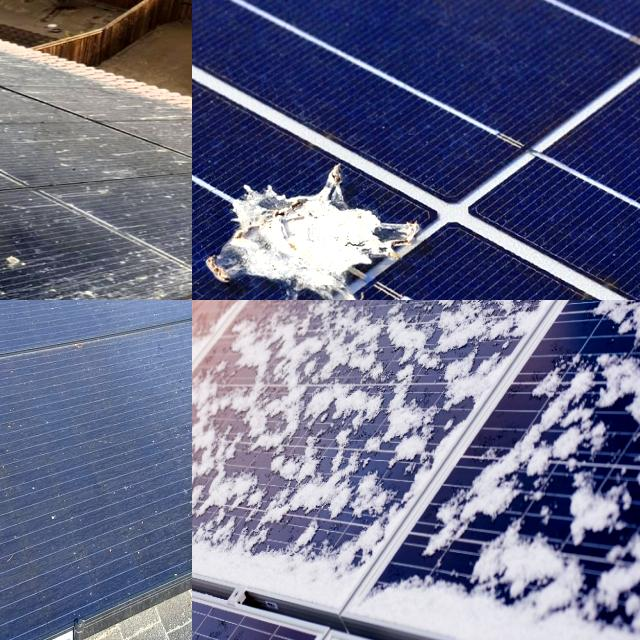bird: (206, 154, 433, 300), (0, 120, 53, 209), (0, 241, 30, 279), (0, 154, 15, 204)
dust: (0, 358, 95, 582), (0, 104, 162, 209), (128, 336, 191, 558), (0, 37, 109, 99), (31, 300, 141, 360), (11, 300, 91, 334), (0, 300, 41, 365), (0, 300, 43, 331)
panel: (228, 506, 354, 605), (566, 468, 640, 636), (486, 440, 564, 594), (328, 302, 434, 414), (534, 356, 640, 462), (435, 300, 533, 405), (326, 429, 432, 522), (368, 572, 504, 640), (234, 308, 336, 384), (213, 381, 308, 459), (417, 484, 485, 590), (192, 470, 246, 576), (493, 300, 640, 335), (252, 472, 342, 527), (192, 397, 247, 483), (519, 603, 640, 640), (192, 300, 277, 349), (589, 300, 640, 378), (290, 300, 379, 340), (192, 401, 234, 474), (192, 474, 232, 548), (192, 338, 245, 392), (296, 300, 388, 326), (392, 300, 492, 321), (192, 300, 234, 346), (406, 300, 476, 326), (192, 488, 226, 534)
